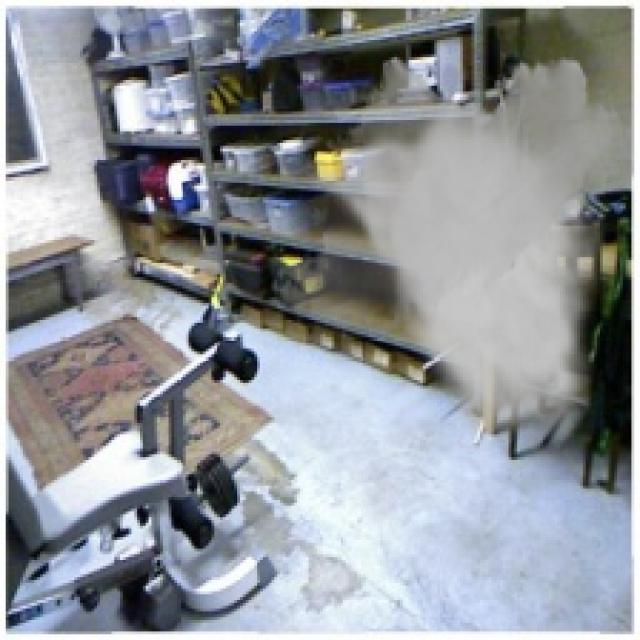smoke: (269, 46, 634, 457)
